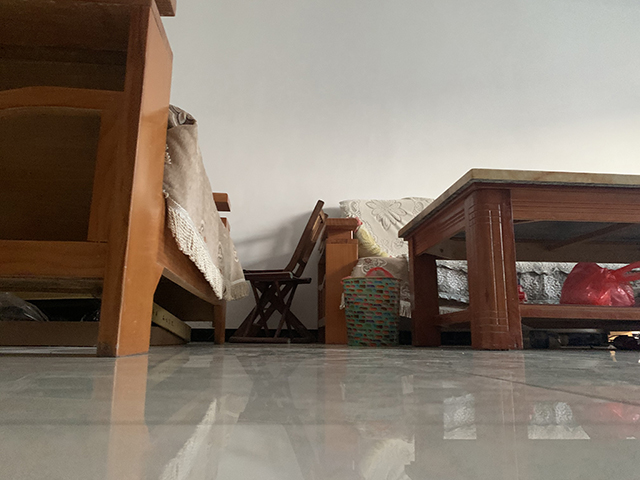sofa: (1, 1, 250, 358), (315, 196, 430, 347)
stool: (228, 199, 329, 344)
table: (396, 167, 640, 354)
trashcan: (341, 275, 402, 350)
